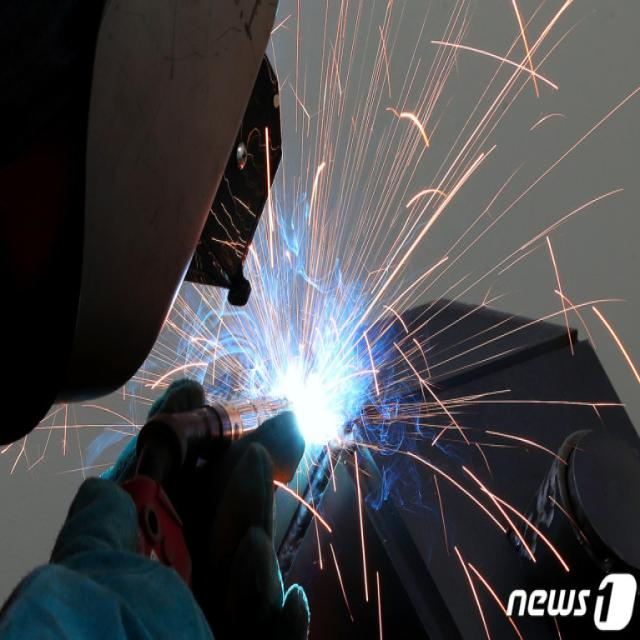welding: (280, 368, 342, 441)
